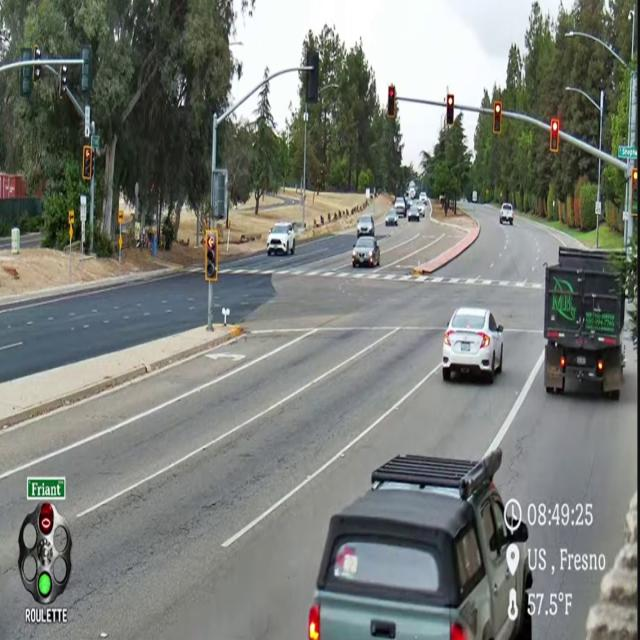car: (308, 449, 533, 639), (442, 307, 503, 383), (267, 222, 295, 255), (352, 236, 379, 268), (357, 215, 374, 238), (500, 203, 513, 225), (394, 196, 407, 216), (407, 205, 421, 222), (385, 209, 398, 226), (417, 201, 425, 216), (419, 192, 427, 202), (407, 198, 413, 209)
traffic signal: (306, 50, 319, 103), (205, 230, 218, 281), (81, 46, 91, 93), (82, 145, 94, 181), (20, 66, 32, 97), (387, 85, 396, 119), (59, 65, 68, 99), (493, 101, 502, 135), (550, 119, 559, 152), (446, 95, 454, 126), (33, 64, 41, 81), (632, 168, 637, 189)
truck: (544, 248, 625, 399)
